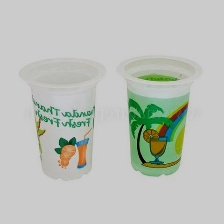glass: (15, 51, 108, 187), (114, 51, 203, 181)
